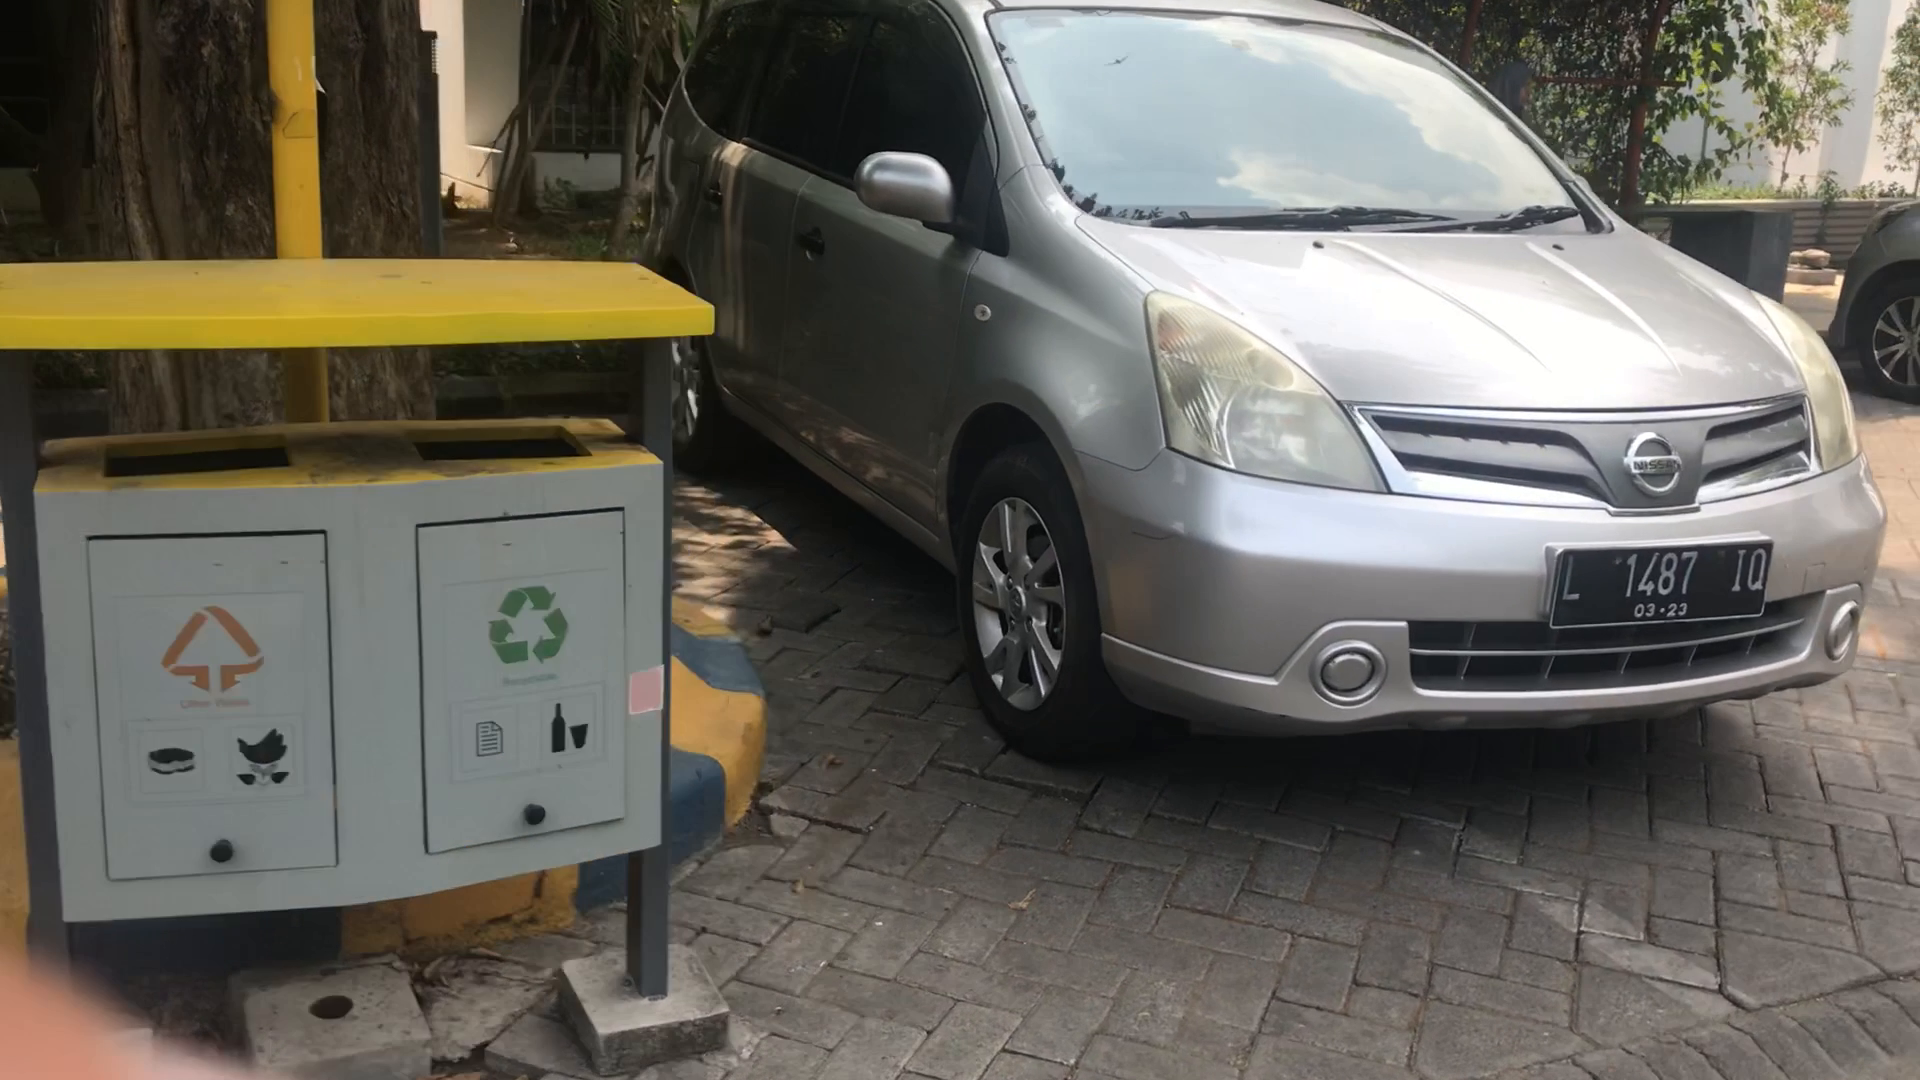plate: (1557, 547, 1777, 620)
